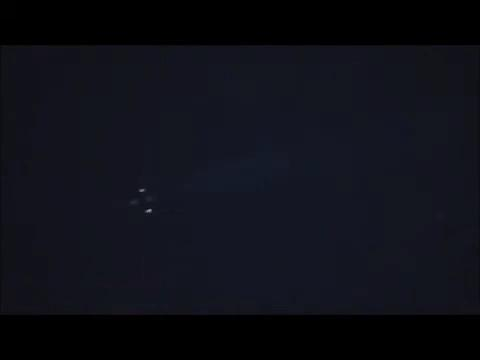Plane: (107, 177, 182, 223)
